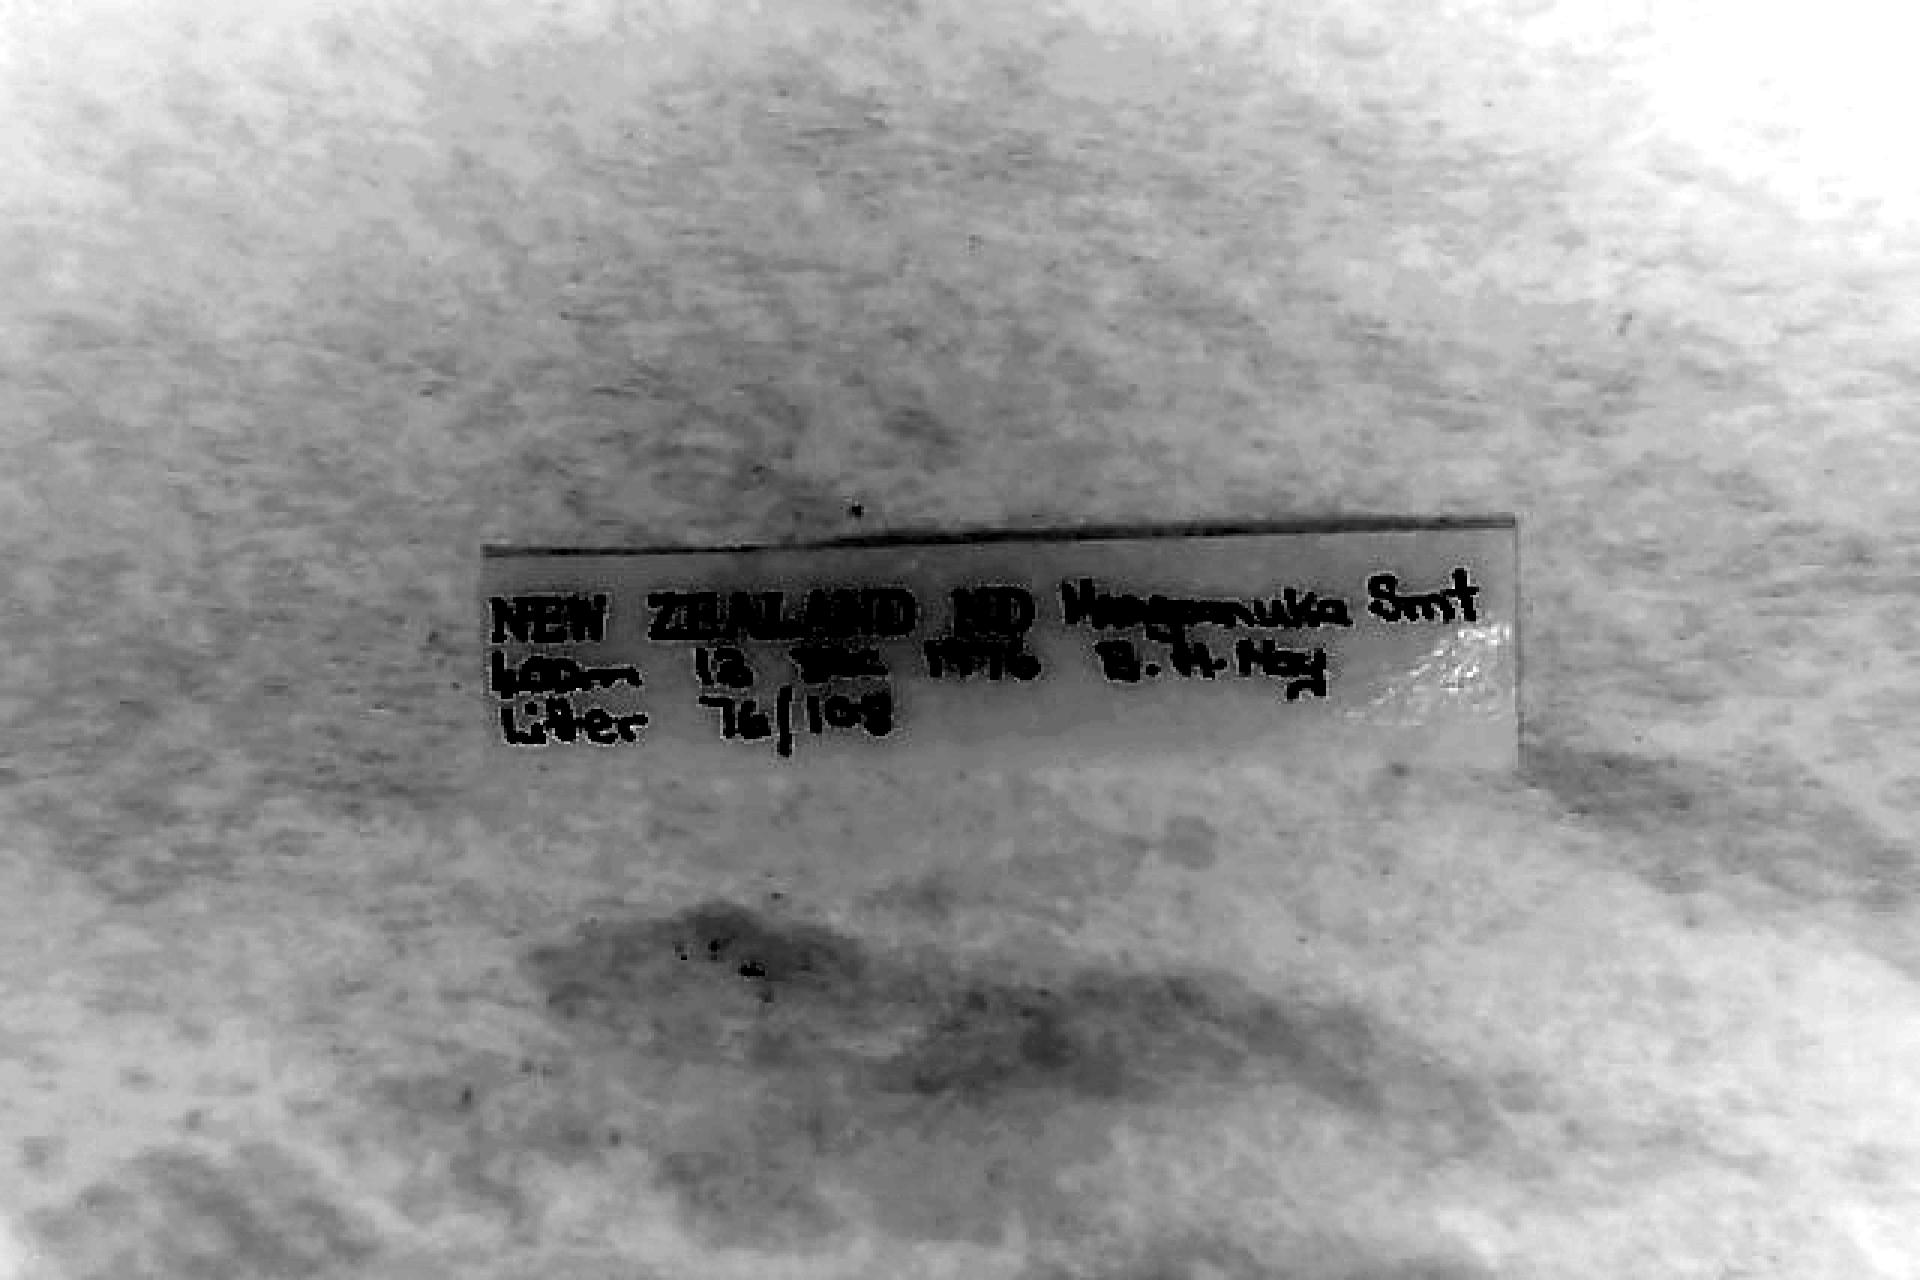mixed_label: (484, 520, 1519, 768)
